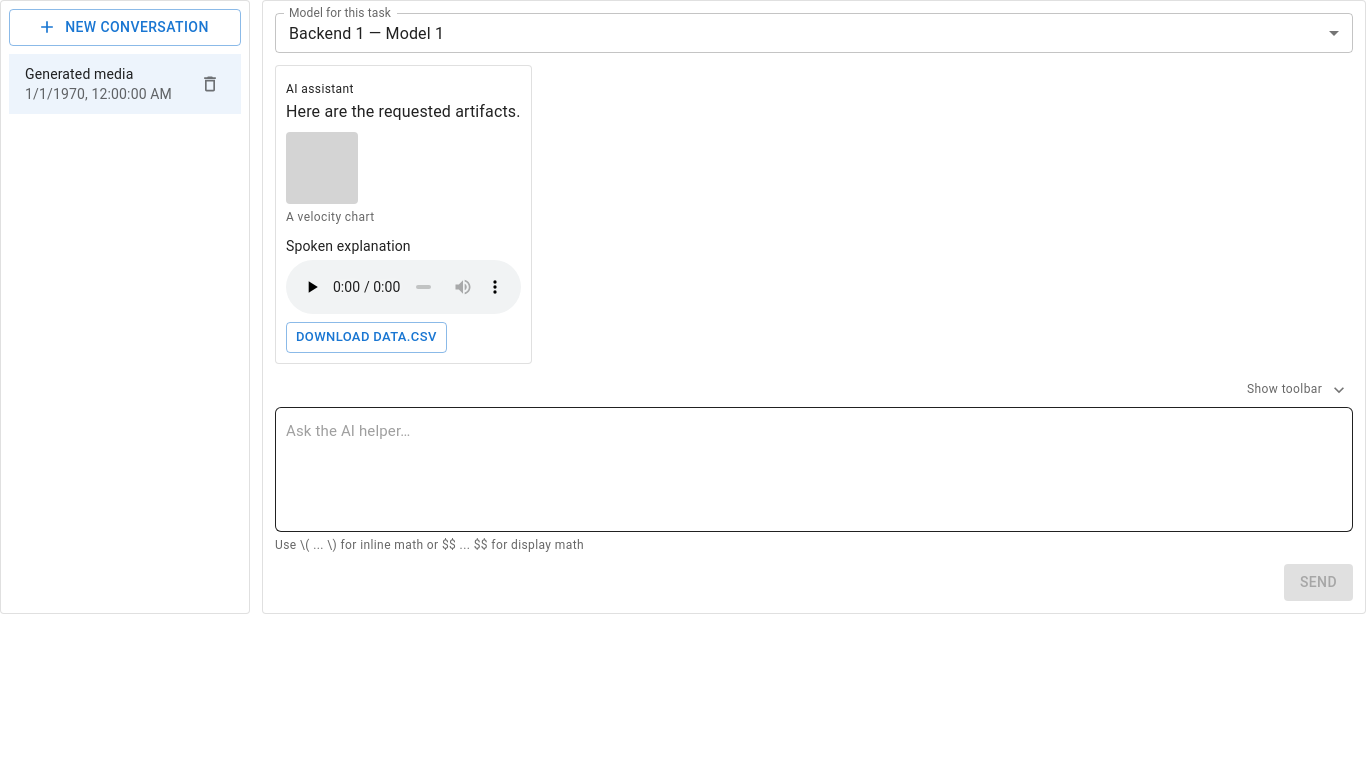
Test: AiCourseChat › renders artifact media only through opaque Qlicker URLs and shows expired media as a warning
Click the button "Download data.csv".
click(366, 337)  # box [286,322,447,353]
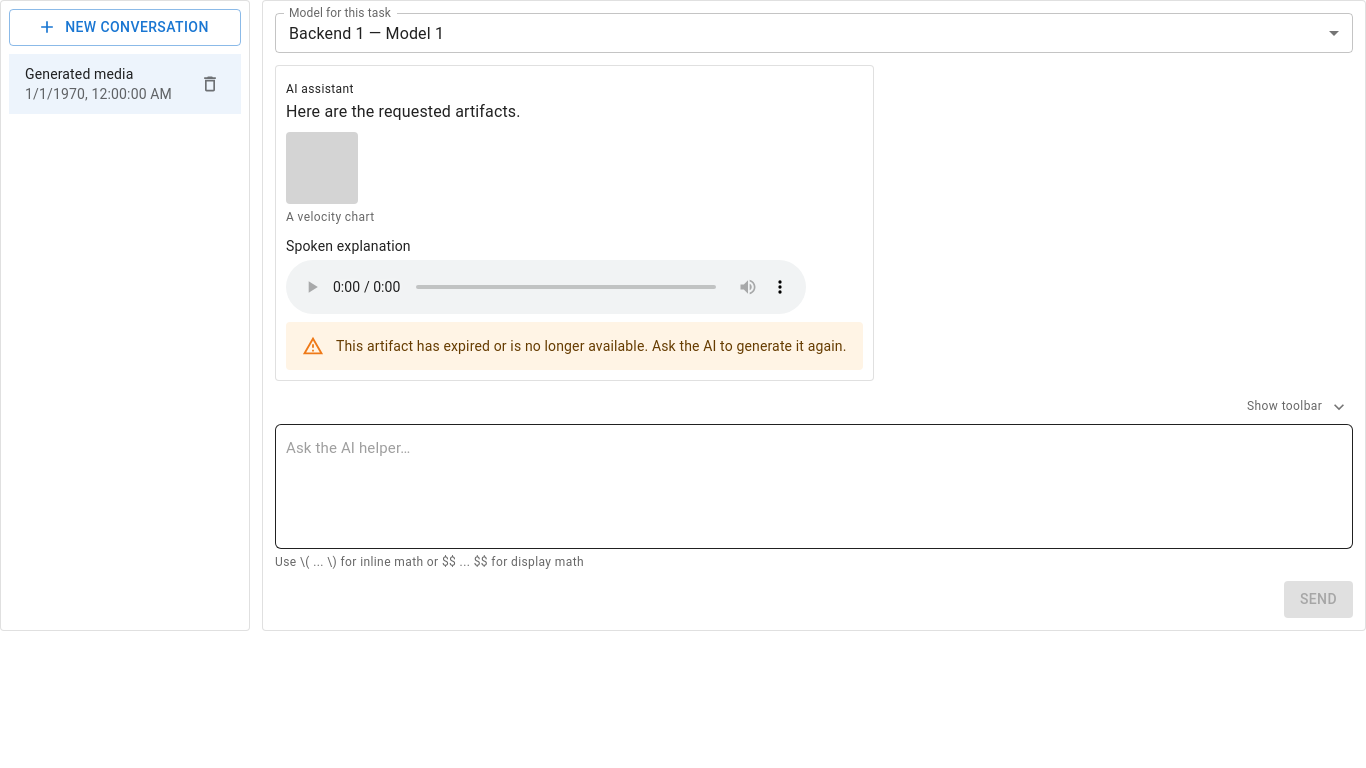
expect the text "This artifact has expired or is no longer available. Ask the AI to generate it again." is shown: met, box [336,338,846,354]
